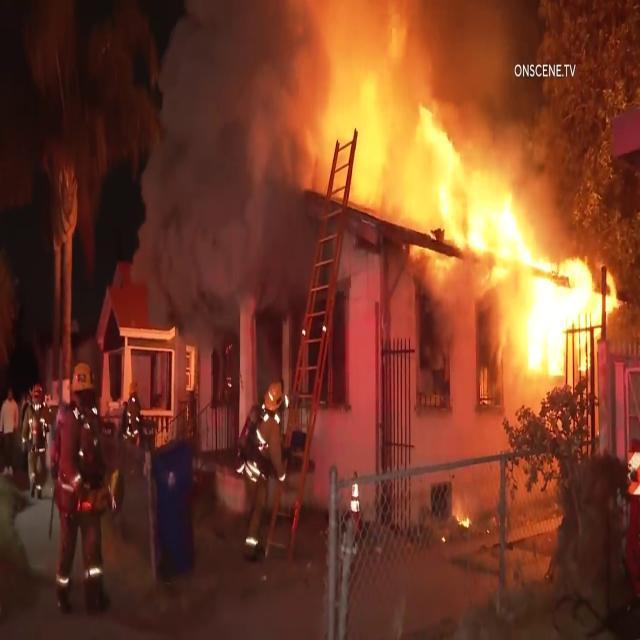Fire: (430, 140, 607, 406)
Smoke: (167, 5, 310, 321)
